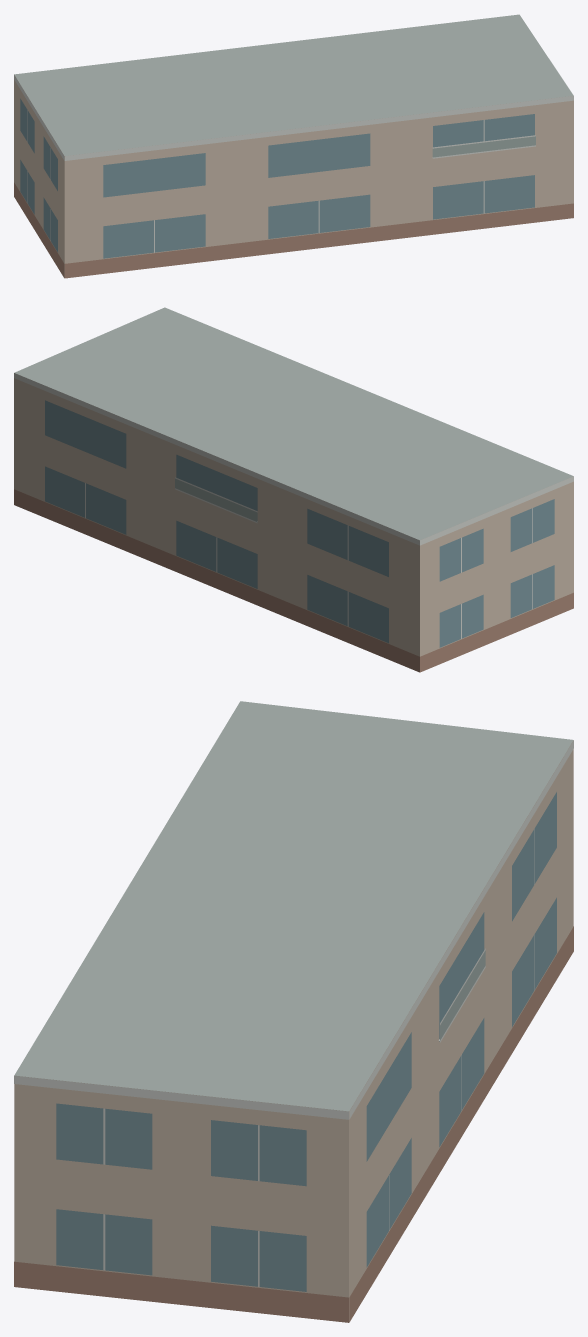
The model's file is survey-upis-32708870.glb.
3 views of the same model, one above another, from view 1: azimuth 30°, elevation 25°; view 2: azimuth 150°, elevation 25°; view 3: azimuth 270°, elevation 25° (orthographic). The views are drawn at different scales.
Parts seen in each view (by area): view 1: survey-upis-32708870.tmp; view 2: survey-upis-32708870.tmp; view 3: survey-upis-32708870.tmp.
Part boxes in pixels (x1,y1,x2,y2): survey-upis-32708870.tmp: (14, 14, 573, 278); survey-upis-32708870.tmp: (14, 307, 573, 672); survey-upis-32708870.tmp: (14, 701, 573, 1322).
Bounding box in the file's own units: 25.4 × 6.1 × 14.65.
